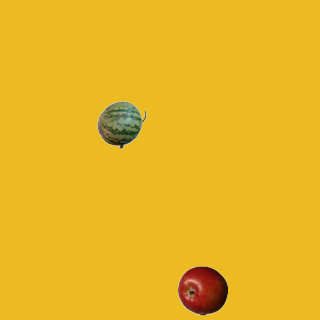Apple Braeburn: (177, 265, 227, 315)
Watermelon: (96, 99, 146, 149)
